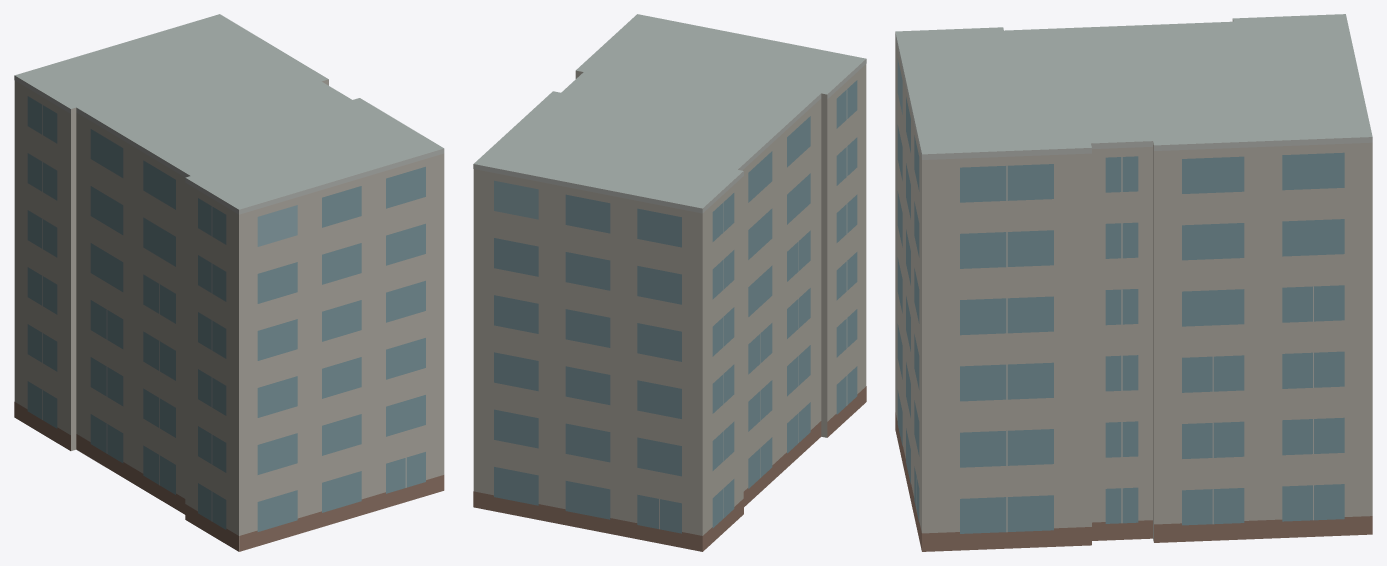
File: survey-upis-32676389.glb
3 renders of one model, left to right at view 1: azimuth 30°, elevation 25°; view 2: azimuth 150°, elevation 25°; view 3: azimuth 270°, elevation 25°, orthographic. The views are drawn at different scales.
Parts seen in each view (by area): view 1: survey-upis-32676389.tmp; view 2: survey-upis-32676389.tmp; view 3: survey-upis-32676389.tmp.
Part boxes in pixels (x1,y1,x2,y2): survey-upis-32676389.tmp: (14,14,444,551); survey-upis-32676389.tmp: (473,14,866,551); survey-upis-32676389.tmp: (895,14,1372,551).
Bounding box in the file's own units: 12.84 × 16.95 × 18.46.
